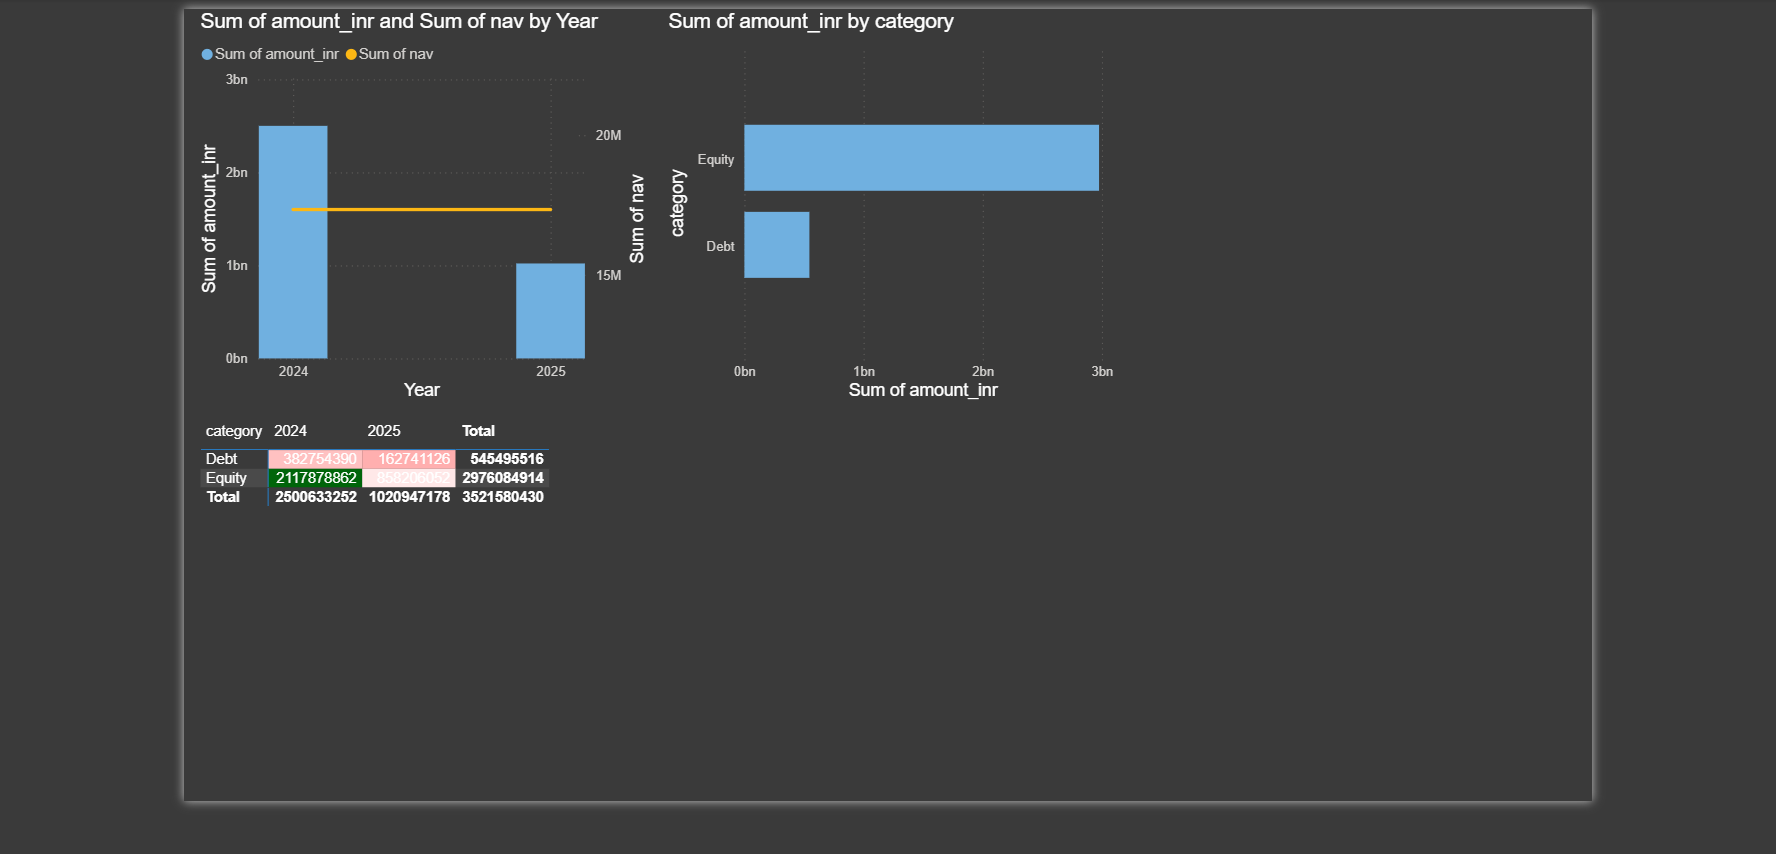

What the dashboard file says about the page in this screenshot:
{"tool":"powerbi","page":{"name":"SIP Trends","canvas":[1280,720],"ordinal":3},"visuals":[{"type":"lineClusteredColumnComboChart","fields":{"Category":["clean_investor_transactions.transaction_date.Variation.Date Hierarchy.Year","clean_investor_transactions.transaction_date.Variation.Date Hierarchy.Quarter","clean_investor_transactions.transaction_date.Variation.Date Hierarchy.Month","clean_investor_transactions.transaction_date.Variation.Date Hierarchy.Day"],"Y":["Sum(clean_investor_transactions.amount_inr)"],"Y2":["Sum(clean_nav_history.nav)"]},"box":[10,0,415.5,360],"z":0},{"type":"pivotTable","fields":{"Rows":["clean_fund_master.category"],"Columns":["clean_investor_transactions.transaction_date.Variation.Date Hierarchy.Year","clean_investor_transactions.transaction_date.Variation.Date Hierarchy.Quarter","clean_investor_transactions.transaction_date.Variation.Date Hierarchy.Month","clean_investor_transactions.transaction_date.Variation.Date Hierarchy.Day"],"Values":["Sum(clean_investor_transactions.amount_inr)"]},"box":[10,370,415,350],"z":1},{"type":"clusteredBarChart","fields":{"Category":["clean_fund_master.category"],"Y":["Sum(clean_investor_transactions.amount_inr)"]},"box":[435,0,415,360],"z":2}]}

Visuals, with their boxes on the page's 1280x720 design canvas (x1, y1, x2, y2). These are canvas units, not pixel positions in the 1776x854 screenshot, which may show the page scaled, cropped or inside an application window:
lineClusteredColumnComboChart - clean_investor_transactions.transaction_date.Variation.Date Hierarchy.Year x clean_investor_transactions.transaction_date.Variation.Date Hierarchy.Quarter: 10:0:426:360
pivotTable - clean_fund_master.category x clean_investor_transactions.transaction_date.Variation.Date Hierarchy.Year: 10:370:425:720
clusteredBarChart - clean_fund_master.category x Sum(clean_investor_transactions.amount_inr): 435:0:850:360
